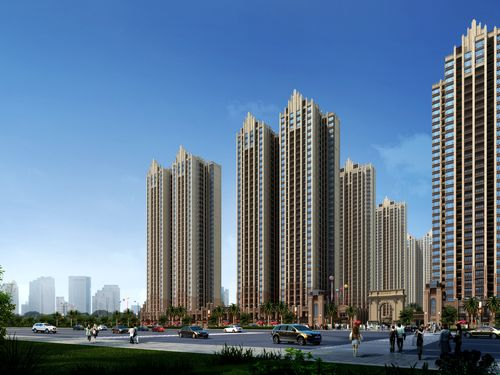buildings: (416, 27, 500, 326), (260, 92, 348, 311), (136, 145, 227, 317), (227, 105, 291, 308), (318, 145, 390, 298), (97, 280, 120, 319)
